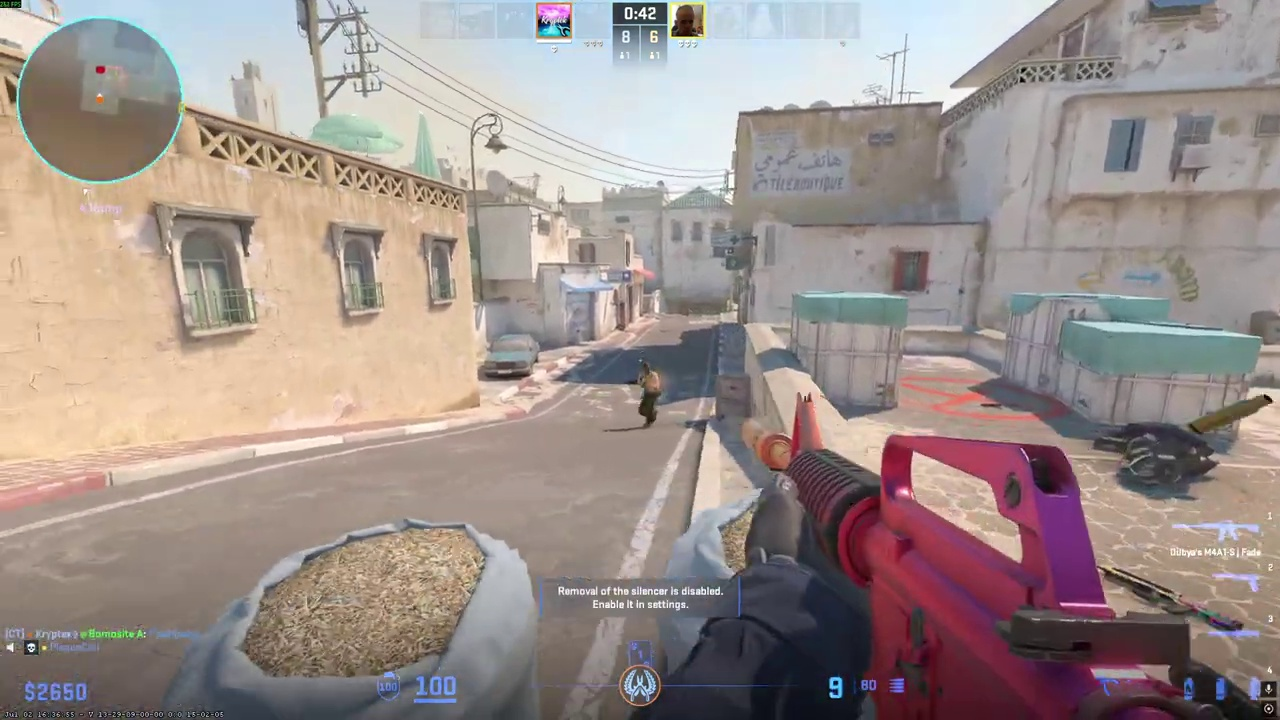Terrorist: (636, 364, 661, 427)
